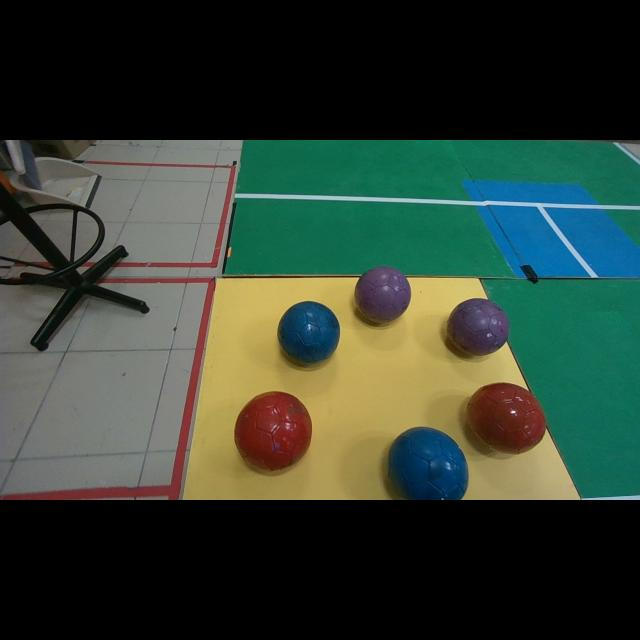B: (388, 428, 469, 499), (278, 301, 340, 364)
P: (448, 300, 510, 355), (355, 266, 411, 322)
R: (235, 391, 312, 470), (466, 382, 546, 453)
